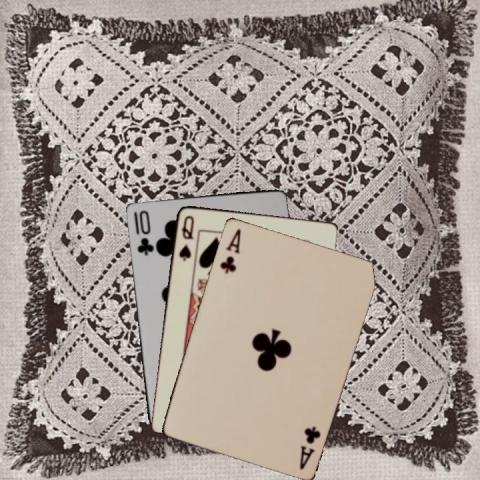10c: (130, 207, 155, 256)
Ac: (217, 226, 242, 276), (296, 422, 322, 470)
Qs: (176, 212, 196, 262)
